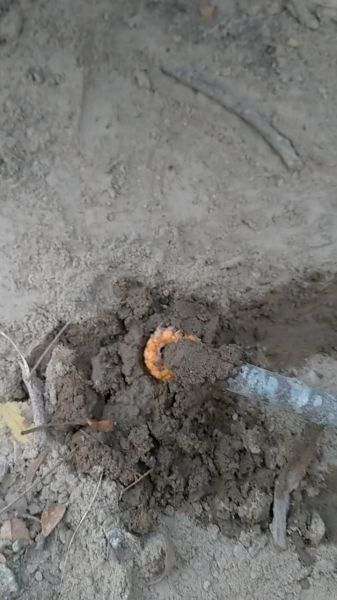eggs: (138, 324, 214, 387)
